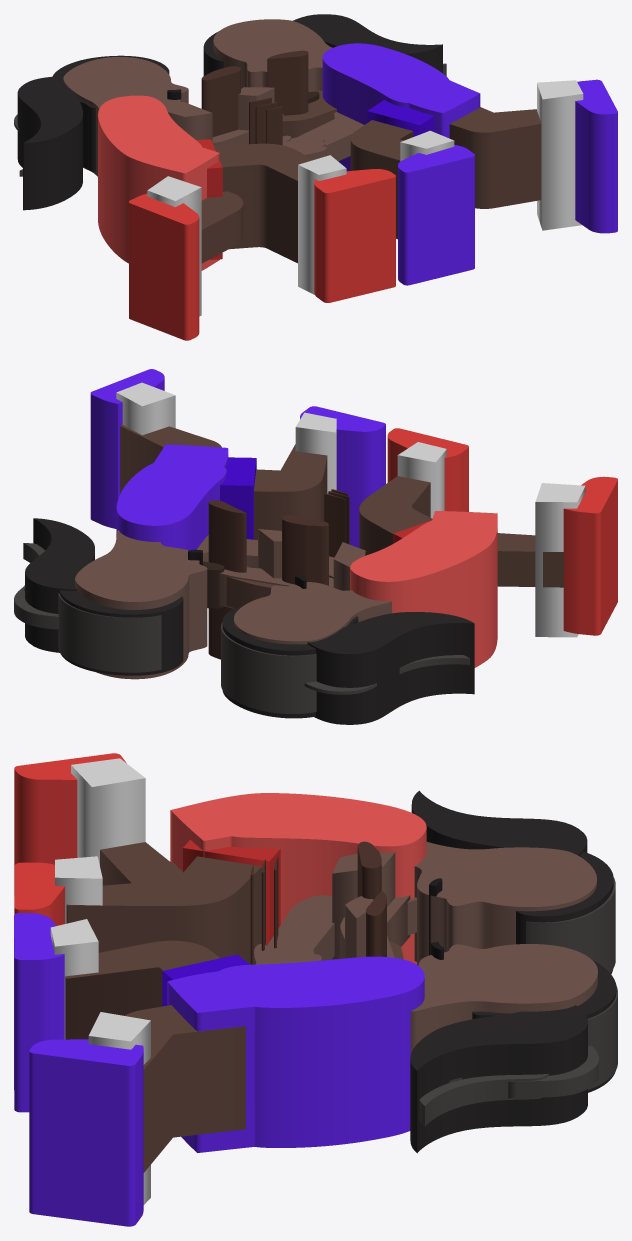
File: emoji_u1f93c_1f3ff_200d_2640.glb
3 renders of one model, top to bottom at view 1: azimuth 30°, elevation 25°; view 2: azimuth 150°, elevation 25°; view 3: azimuth 270°, elevation 25°, orthographic. The views are drawn at different scales.
Parts seen in each view (by area): view 1: emoji_u1f93c_1f3ff_200d_2640; view 2: emoji_u1f93c_1f3ff_200d_2640; view 3: emoji_u1f93c_1f3ff_200d_2640.
Part boxes in pixels (bbox=[...]): emoji_u1f93c_1f3ff_200d_2640: bbox=[14, 14, 617, 340]; emoji_u1f93c_1f3ff_200d_2640: bbox=[14, 369, 617, 724]; emoji_u1f93c_1f3ff_200d_2640: bbox=[14, 753, 617, 1226].
Bounding box in the file's own units: 0.0327 × 0.0096 × 0.0266.
